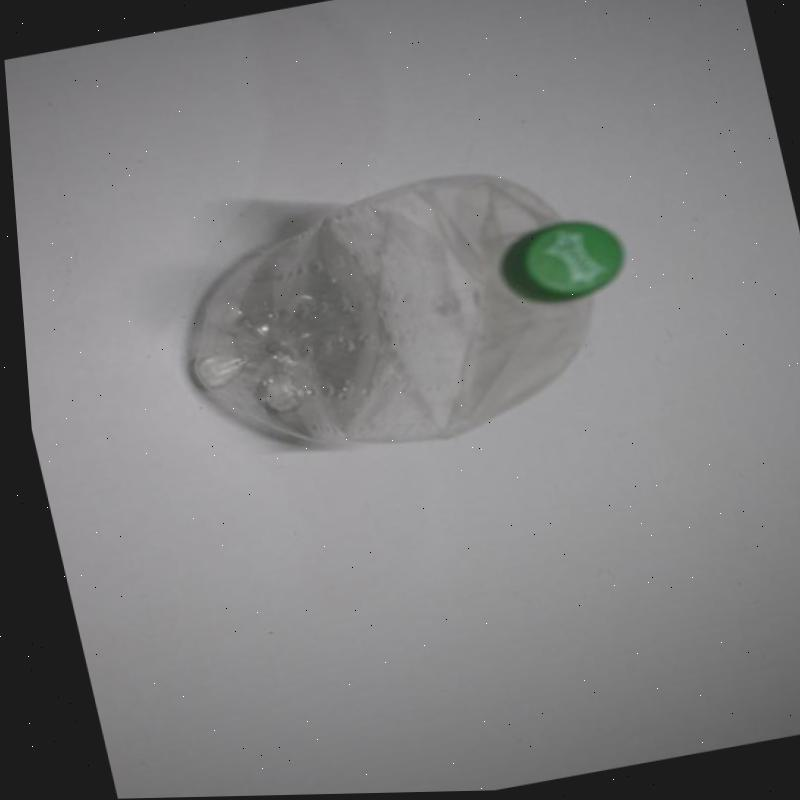botella: (143, 148, 658, 482)
